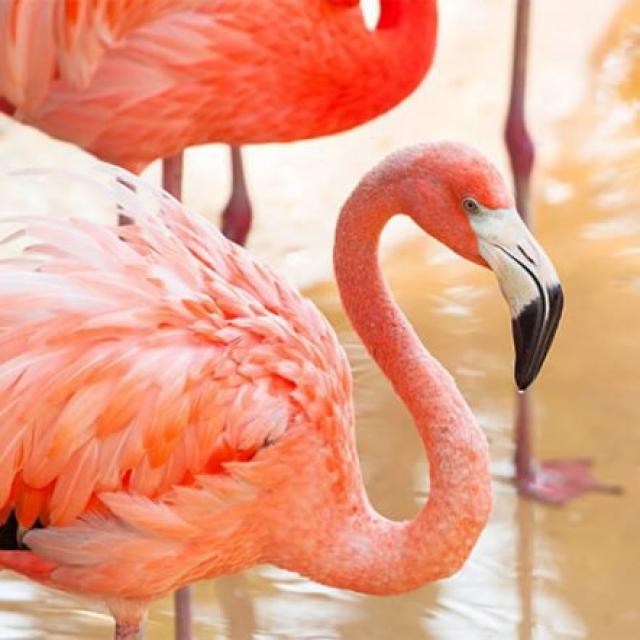Flamingo: (0, 118, 568, 638)
